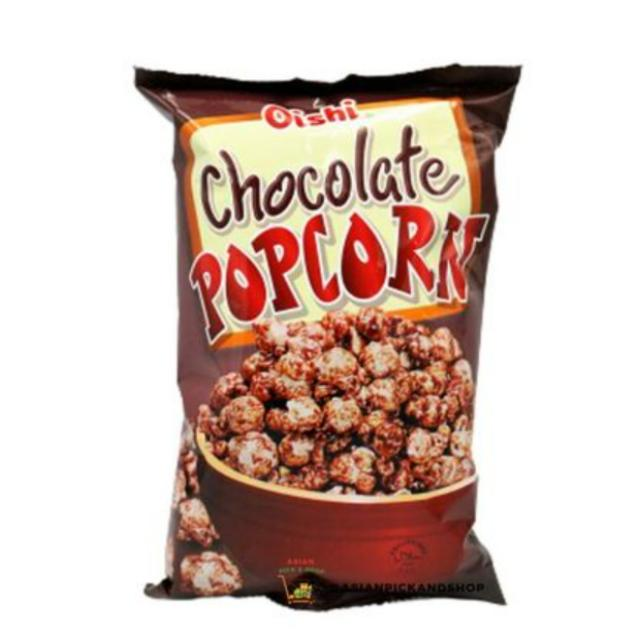KemasanPlastik: (129, 56, 521, 606)
